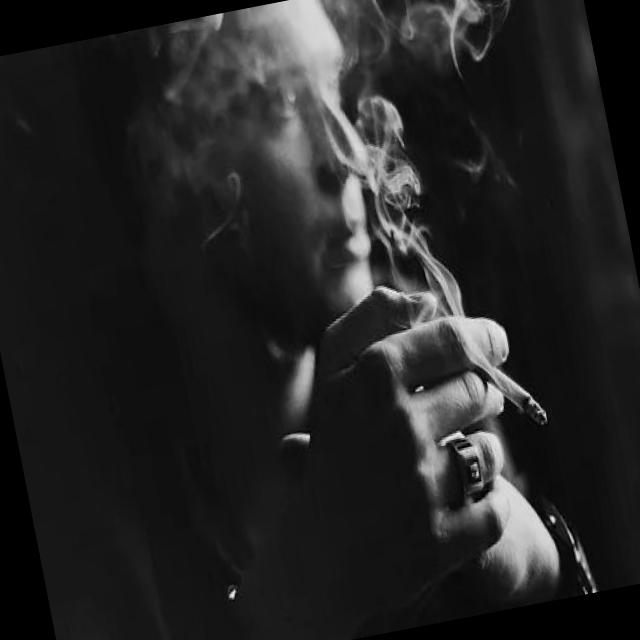smoke: (465, 339, 558, 446)
